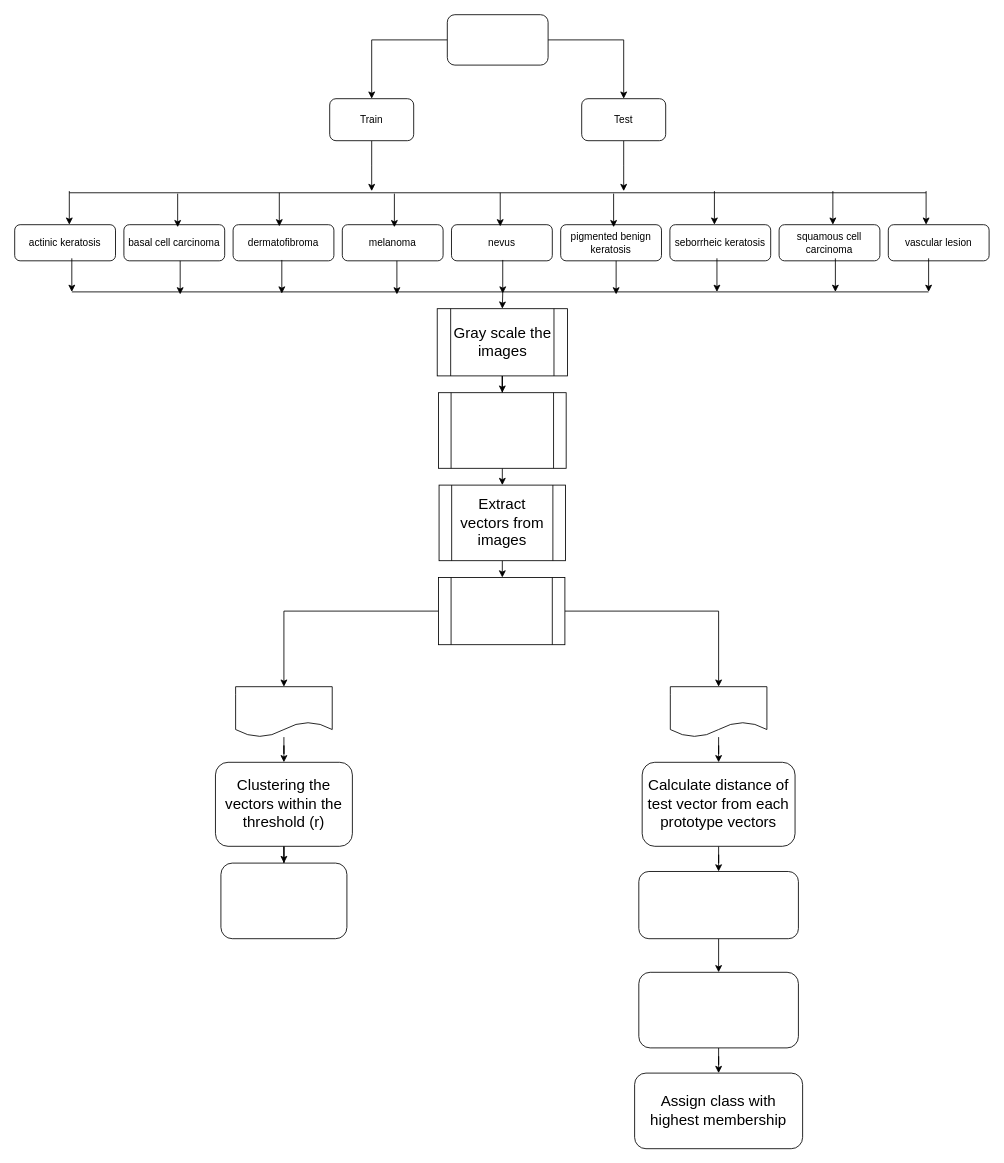
Some shapes in this 1004 by 1163 pixel diagram are drawn without their labels. Here are the shapes that lost their labels. From the top down, the box of each, then its label:
(446, 14, 548, 65): Skin Cancer ISIC Database
(438, 392, 566, 468): Sharpend the images using LOG Kernel
(438, 577, 565, 645): Normalize vectors
(235, 686, 332, 737): Training
(669, 686, 767, 737): Testing
(220, 862, 347, 939): Obtain prototypes for each cluster
(638, 871, 798, 939): Store the nearest prototypes from each class
(638, 971, 798, 1048): Assign fuzzy membership values corresponsing to each prototype vector
